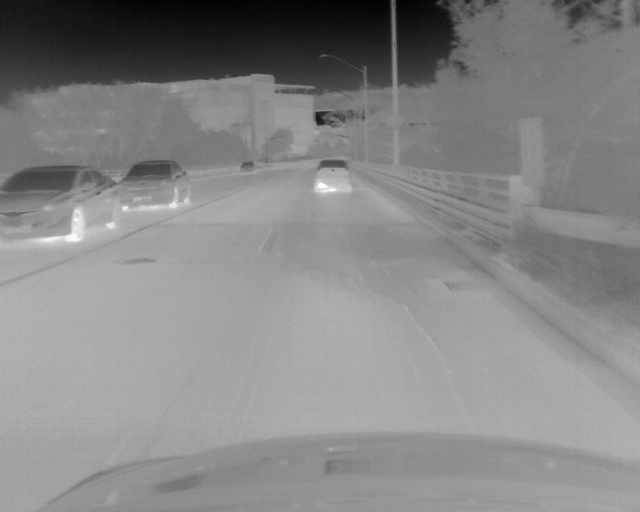car: (1, 165, 121, 244), (120, 160, 189, 208), (312, 158, 351, 194), (240, 161, 254, 174)
